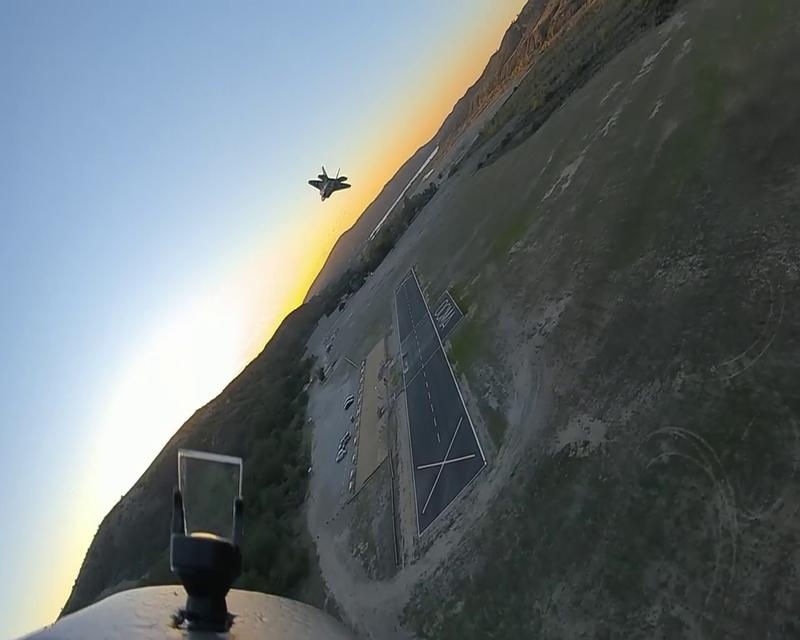UAV: (308, 166, 351, 202)
